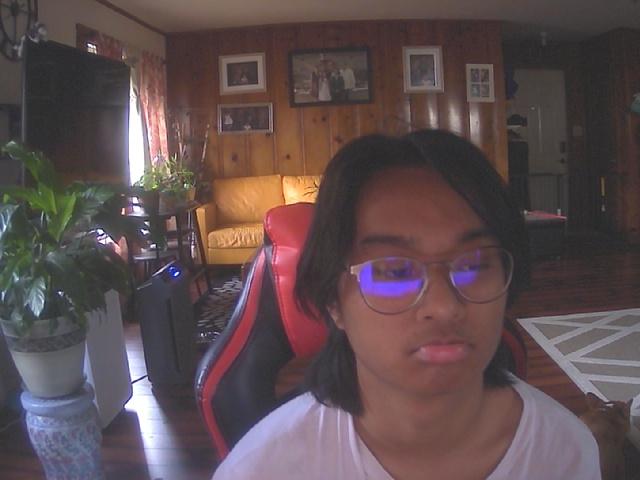sad: (317, 138, 522, 399)
